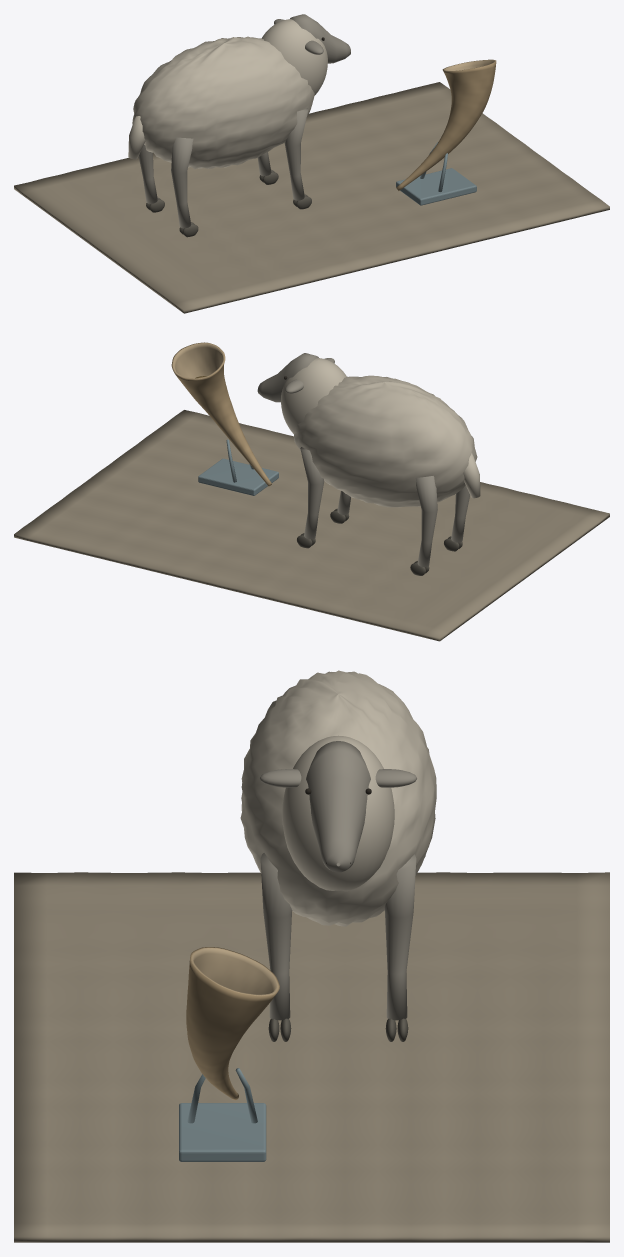
Rendered from david-shepherd.glb.
3 renders of one model, top to bottom at view 1: azimuth 30°, elevation 25°; view 2: azimuth 150°, elevation 25°; view 3: azimuth 270°, elevation 25°, orthographic. The views are drawn at different scales.
Visible parts, largest first — view 1: david-shepherd-david-modern-desk-ground, david-shepherd-ewe-natural-fleece, david-shepherd-david-selected-keratin-horn-outer, david-shepherd-ewe-face-and-legs, david-shepherd-david-modern-comparison-fixture, david-shepherd-ewe-face-and-legs.001, david-shepherd-ewe-split-hooves, david-shepherd-ewe-natural-fleece.001; view 2: david-shepherd-david-modern-desk-ground, david-shepherd-ewe-natural-fleece, david-shepherd-david-selected-keratin-horn-outer, david-shepherd-ewe-face-and-legs, david-shepherd-david-modern-comparison-fixture, david-shepherd-ewe-face-and-legs.001, david-shepherd-ewe-split-hooves, david-shepherd-ewe-natural-fleece.001; view 3: david-shepherd-david-modern-desk-ground, david-shepherd-ewe-natural-fleece, david-shepherd-david-selected-keratin-horn-outer, david-shepherd-ewe-face-and-legs.001, david-shepherd-ewe-face-and-legs, david-shepherd-david-modern-comparison-fixture, david-shepherd-ewe-split-hooves.
Part boxes in pixels (x1,y1,x2,y2): david-shepherd-david-modern-desk-ground: (14,82,609,313); david-shepherd-ewe-natural-fleece: (132,19,327,168); david-shepherd-david-selected-keratin-horn-outer: (396,59,496,190); david-shepherd-ewe-face-and-legs: (138,108,308,228); david-shepherd-david-modern-comparison-fixture: (396,142,476,205); david-shepherd-ewe-face-and-legs.001: (274,14,350,63); david-shepherd-ewe-split-hooves: (146,169,311,237); david-shepherd-ewe-natural-fleece.001: (128,116,145,159); david-shepherd-david-modern-desk-ground: (14,410,609,641); david-shepherd-ewe-natural-fleece: (281,358,477,507); david-shepherd-david-selected-keratin-horn-outer: (171,342,271,486); david-shepherd-ewe-face-and-legs: (300,447,470,567); david-shepherd-david-modern-comparison-fixture: (198,439,278,495); david-shepherd-ewe-face-and-legs.001: (257,353,334,402); david-shepherd-ewe-split-hooves: (297,508,462,575); david-shepherd-ewe-natural-fleece.001: (463,453,480,498); david-shepherd-david-modern-desk-ground: (14,872,609,1242); david-shepherd-ewe-natural-fleece: (240,670,436,926); david-shepherd-david-selected-keratin-horn-outer: (186,947,279,1100); david-shepherd-ewe-face-and-legs.001: (259,741,416,872); david-shepherd-ewe-face-and-legs: (260,853,416,1020); david-shepherd-david-modern-comparison-fixture: (179,1068,266,1161); david-shepherd-ewe-split-hooves: (268,1018,408,1041).
Size of the model in its own units: 1.3 by 0.52 by 0.9.
